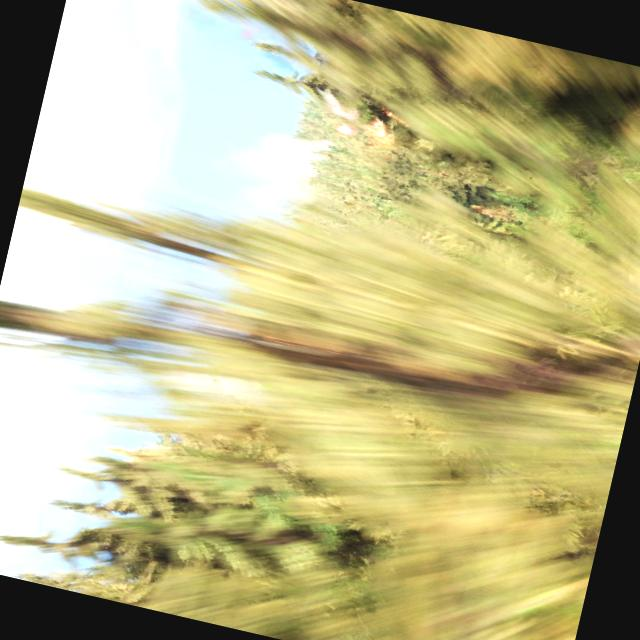smoke: (237, 120, 338, 200)
